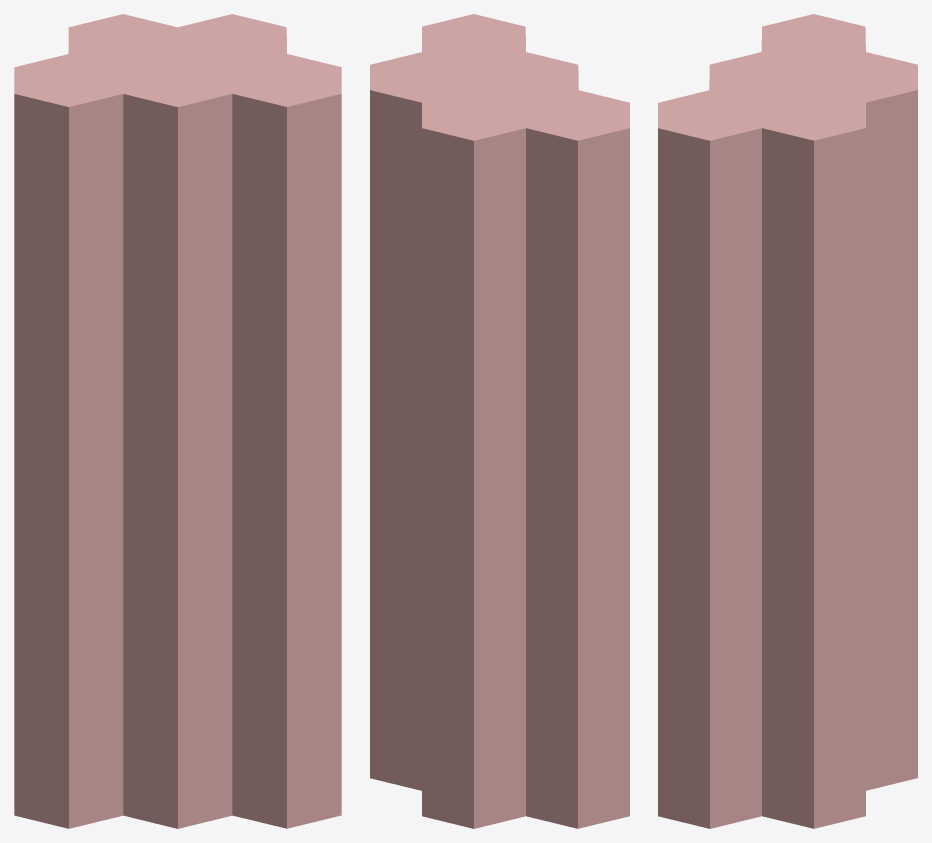
The model's file is level04_risingBridgeRight_01.fbx.
The picture shows the model from 3 angles, left to right: view 1: azimuth 30°, elevation 25°; view 2: azimuth 150°, elevation 25°; view 3: azimuth 270°, elevation 25°; orthographic projection. The views are drawn at different scales.
Parts seen in each view (by area): view 1: level04_risingBridgeRight_01; view 2: level04_risingBridgeRight_01; view 3: level04_risingBridgeRight_01.
Part boxes in pixels (box(x1,y1,x2,y2)): level04_risingBridgeRight_01: box(14, 14, 341, 828); level04_risingBridgeRight_01: box(370, 14, 629, 828); level04_risingBridgeRight_01: box(658, 14, 917, 828).
Bounding box in the file's own units: 592 × 1498 × 513.
